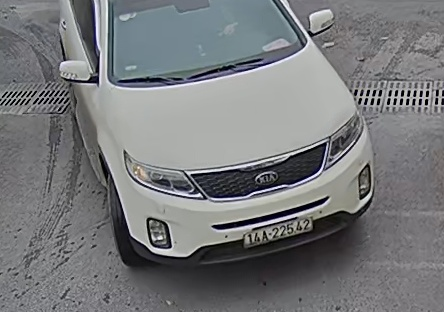vehicle plate: (234, 214, 315, 247)
